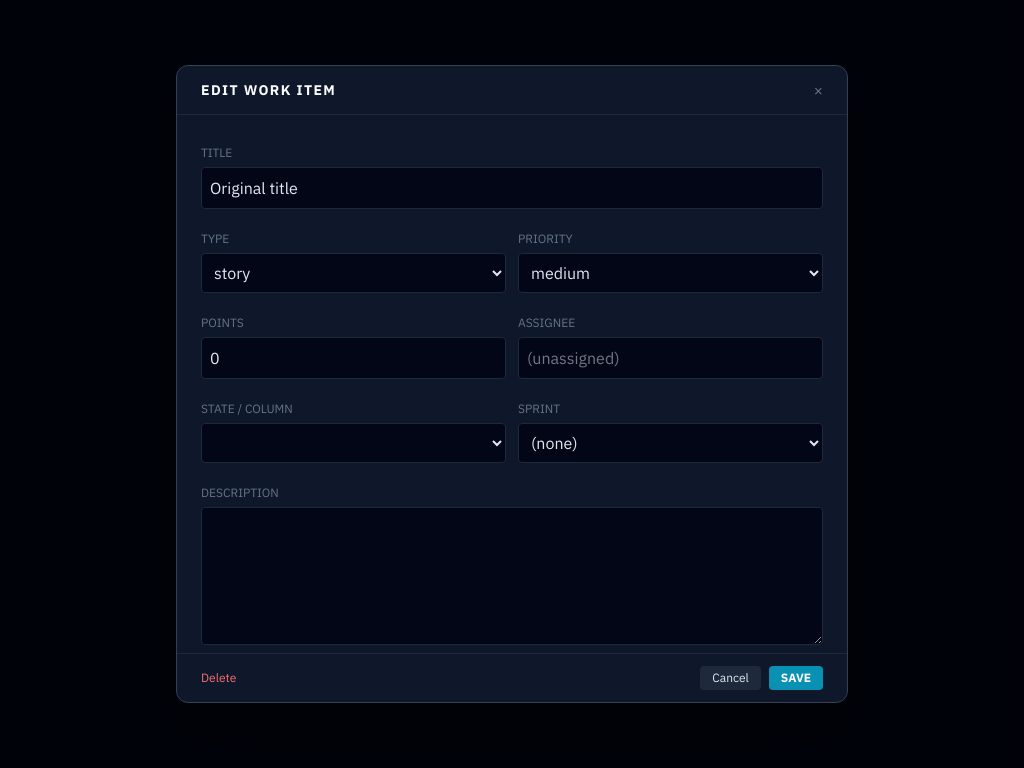
WorkItemEditor close guard › does not forward an earlier save error when native-close Save is refused during deletion
The image size is (1024, 768).
Step 1. Replace the text in the field labelled "Title" with "Retained during deletion" → (512,188), box [201, 167, 823, 209]
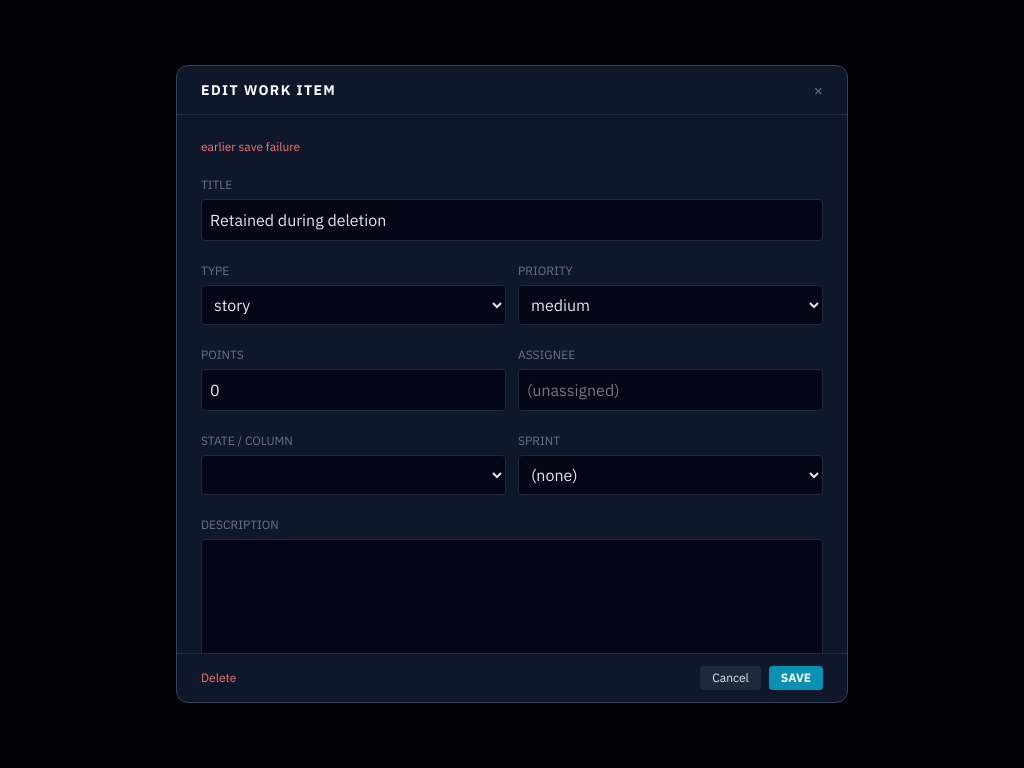
expect the message "earlier save failure" is shown: met, box [201, 139, 300, 154]
Step 2. Click the button "Delete" → (219,678), box [201, 670, 236, 686]
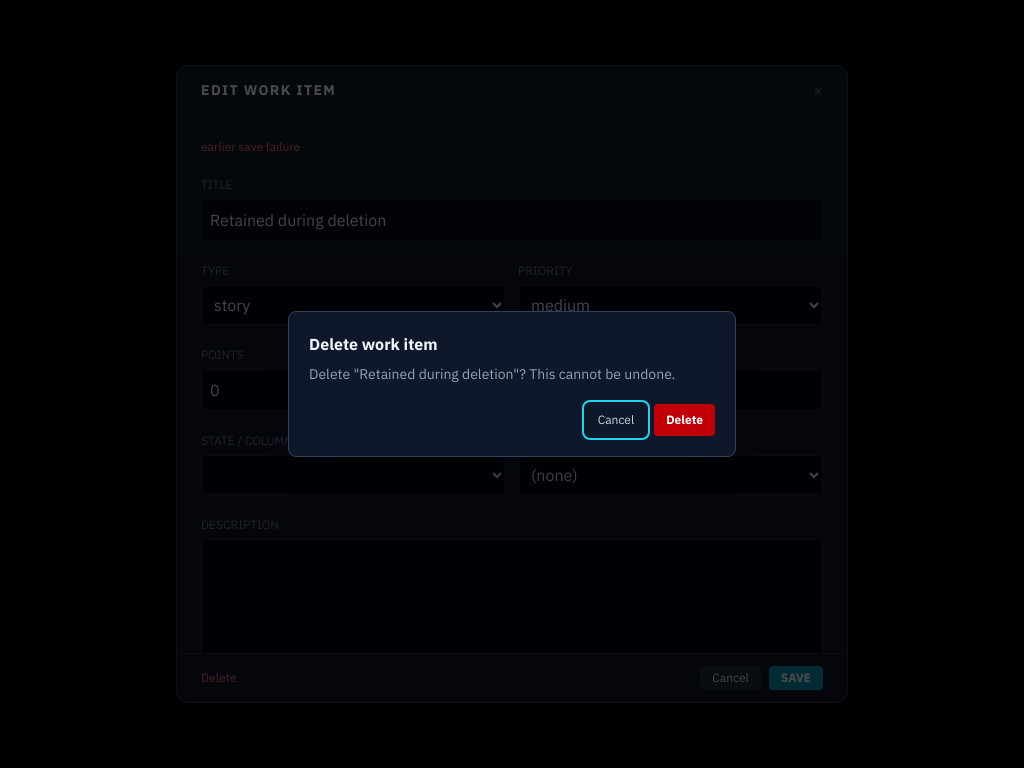
Step 3. Click the button "Delete" → (685,420), box [654, 404, 715, 436]
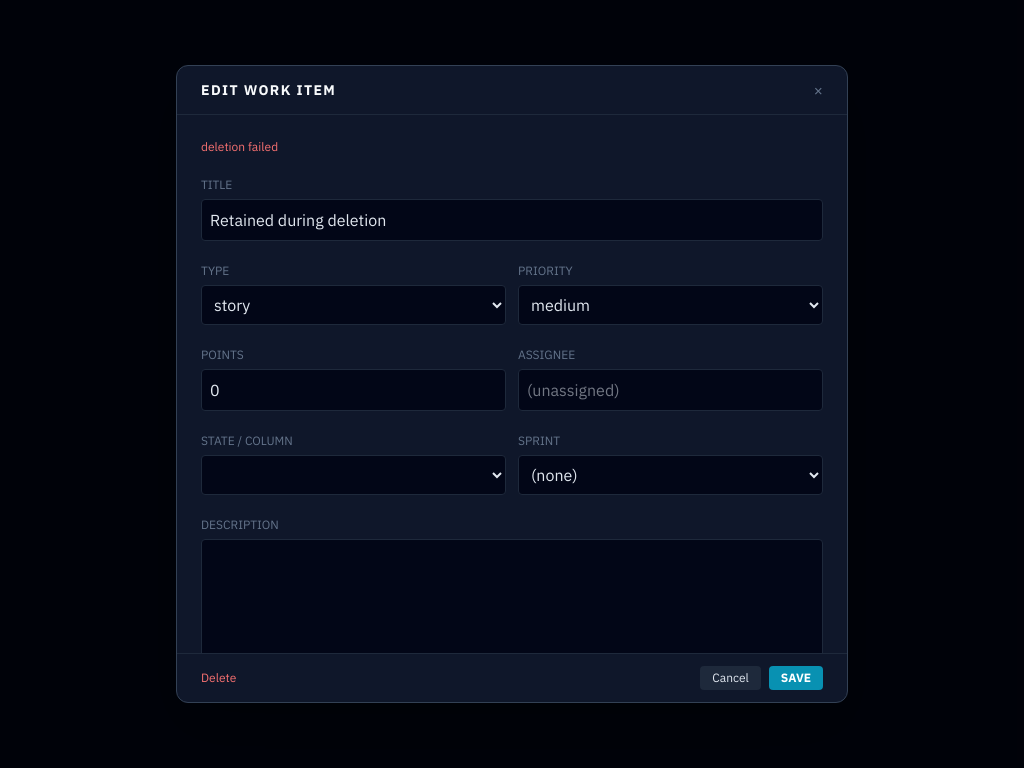
expect the message reads "deletion failed": met, box [201, 139, 278, 154]
